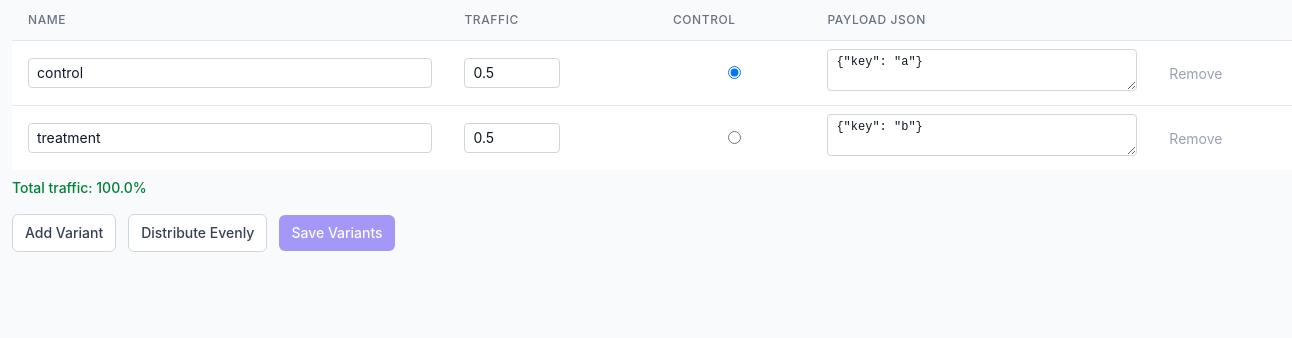
Test: VariantForm › adds a new variant when "Add Variant" is clicked
Click the button "Add Variant".
click(64, 233)  # box x1=12 y1=214 x2=116 y2=252
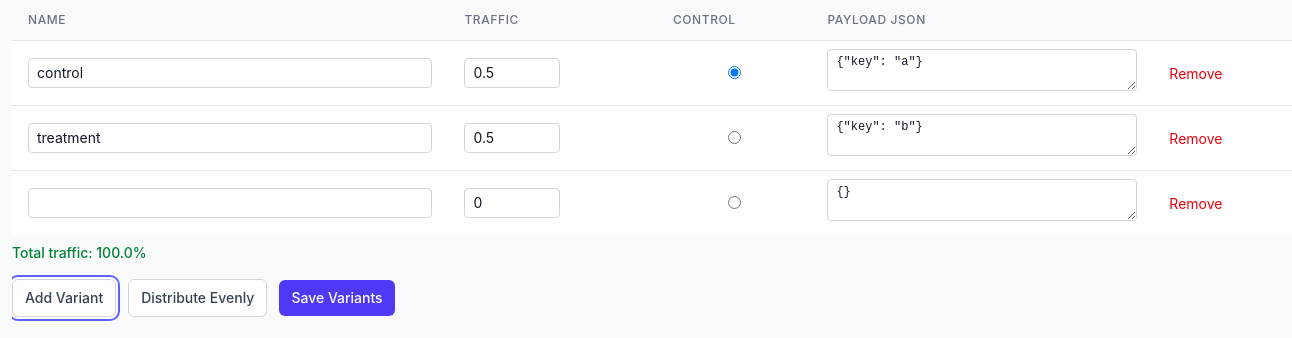
Expected: the number of fields named "name" is 3, x1=28 y1=58 x2=432 y2=88; x1=28 y1=123 x2=432 y2=153; x1=28 y1=188 x2=432 y2=218
